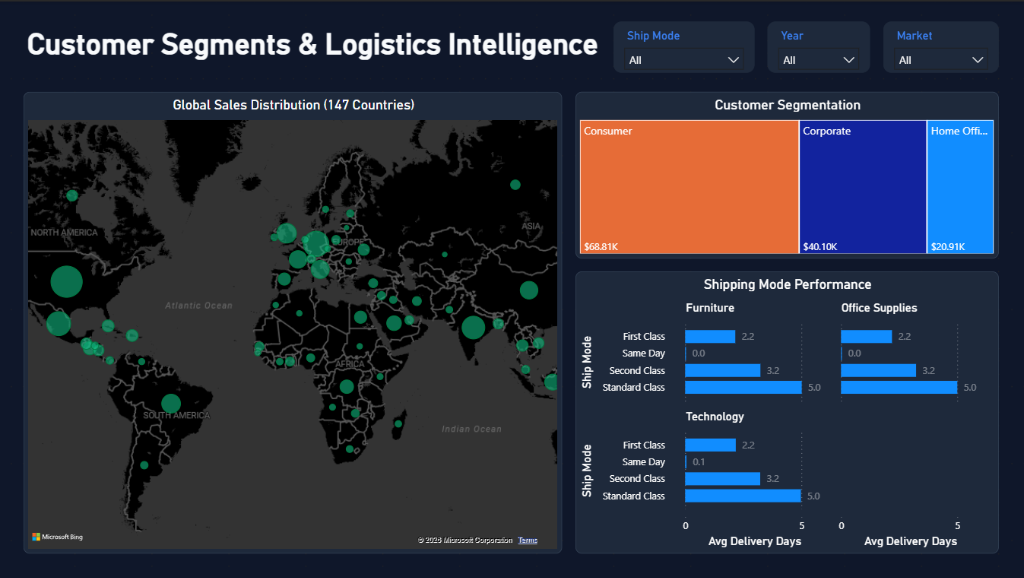

This screenshot's page, from the dashboard's own definition file:
{"tool":"powerbi","page":{"name":"Page 3","canvas":[1280,720],"ordinal":2},"visuals":[{"type":"textbox","title":"Customer Segments & Logistics Intelligence","box":[32,32,736,48],"z":0},{"type":"map","title":"Global Sales Distribution (147 Countries)","fields":{"Category":["Sheet1.Country"],"Size":["Sheet1.Total Sales"]},"box":[32,112,672,576],"z":1000},{"type":"group","id":"g1","title":"Group 1","box":[768,24.9,480,64],"z":2000},{"type":"clusteredBarChart","title":"Shipping Mode Performance ","fields":{"Category":["Sheet1.Ship Mode"],"Y":["Sheet1.Avg Delivery Days"],"Rows":["Sheet1.Category"]},"box":[720,336,528,352],"z":3000},{"type":"treemap","title":"Customer Segmentation","fields":{"Group":["Sheet1.Segment"],"Values":["Sheet1.Total Sales"]},"box":[720,112,528,208],"z":4000},{"type":"slicer","fields":{"Values":["Sheet1.Market"]},"box":[1104,24.9,144,64],"z":9000,"group":"g1"},{"type":"slicer","fields":{"Values":["Sheet1.Ship Mode"]},"box":[768,24.9,176,64],"z":10000,"group":"g1"},{"type":"slicer","fields":{"Values":["Dim_Date.Year"]},"box":[960,24.9,128,64],"z":11000,"group":"g1"}]}

Visuals, with their boxes in screenshot pixels (x1, y1, x2, y2), scaled from the page's 1280x720 canvas onto the 1024x578 screenshot:
"Customer Segments & Logistics Intelligence" textbox: [26, 26, 614, 64]
"Global Sales Distribution (147 Countries)" map: [26, 90, 563, 552]
"Group 1" group: [614, 20, 998, 71]
"Shipping Mode Performance " clusteredBarChart: [576, 270, 998, 552]
"Customer Segmentation" treemap: [576, 90, 998, 257]
slicer - Sheet1.Market: [883, 20, 998, 71]
slicer - Sheet1.Ship Mode: [614, 20, 755, 71]
slicer - Dim_Date.Year: [768, 20, 870, 71]
